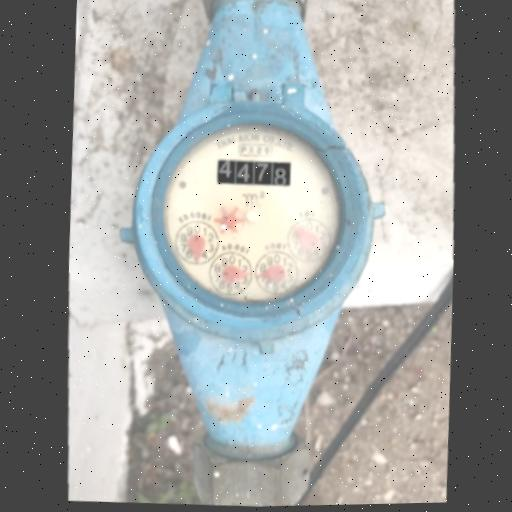4: (217, 159, 237, 185), (236, 160, 254, 185)
7: (254, 161, 272, 185)
8: (272, 162, 292, 186)
border_water_meter_number: (216, 157, 292, 189)
